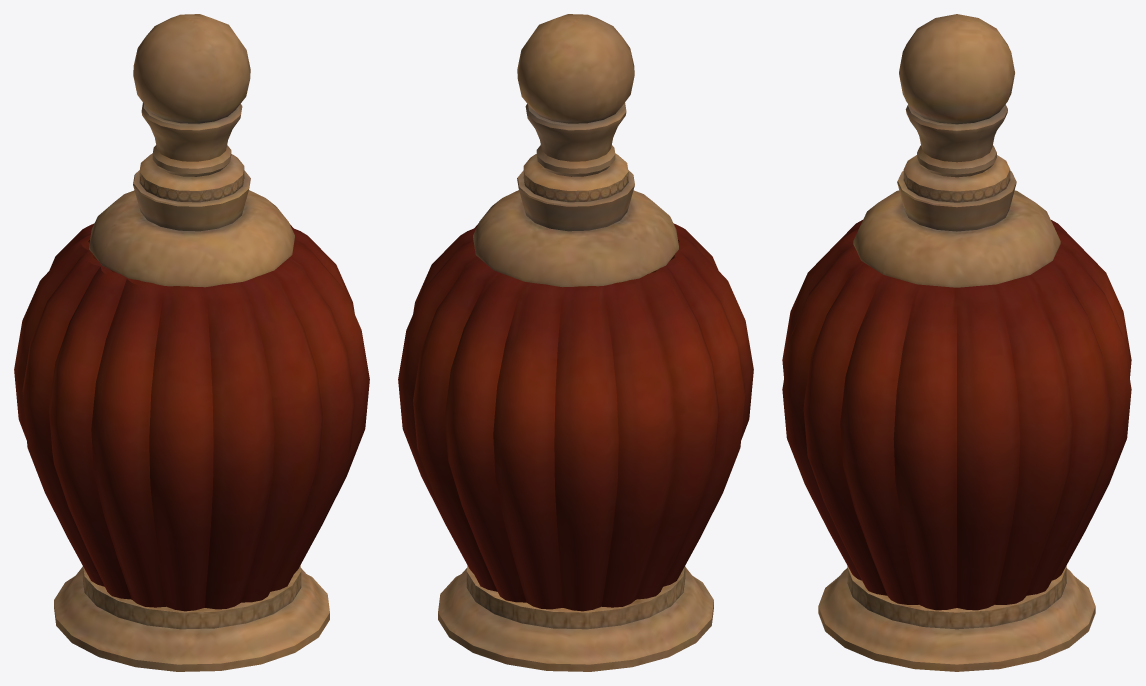
Rendered from perfume-bottle-c.glb.
The picture shows the model from 3 angles, left to right: view 1: azimuth 30°, elevation 25°; view 2: azimuth 150°, elevation 25°; view 3: azimuth 270°, elevation 25°; orthographic projection.
Visible parts, largest first — view 1: perfume-bottle-c; view 2: perfume-bottle-c; view 3: perfume-bottle-c.
Boxes of the visible parts, bbox=[...] form: perfume-bottle-c: bbox=[14, 14, 369, 671]; perfume-bottle-c: bbox=[398, 14, 753, 671]; perfume-bottle-c: bbox=[782, 14, 1131, 671].
Bounding box in the file's own units: 0.0667 × 0.1249 × 0.0667.
Materials: 1 (1 with a texture image).
